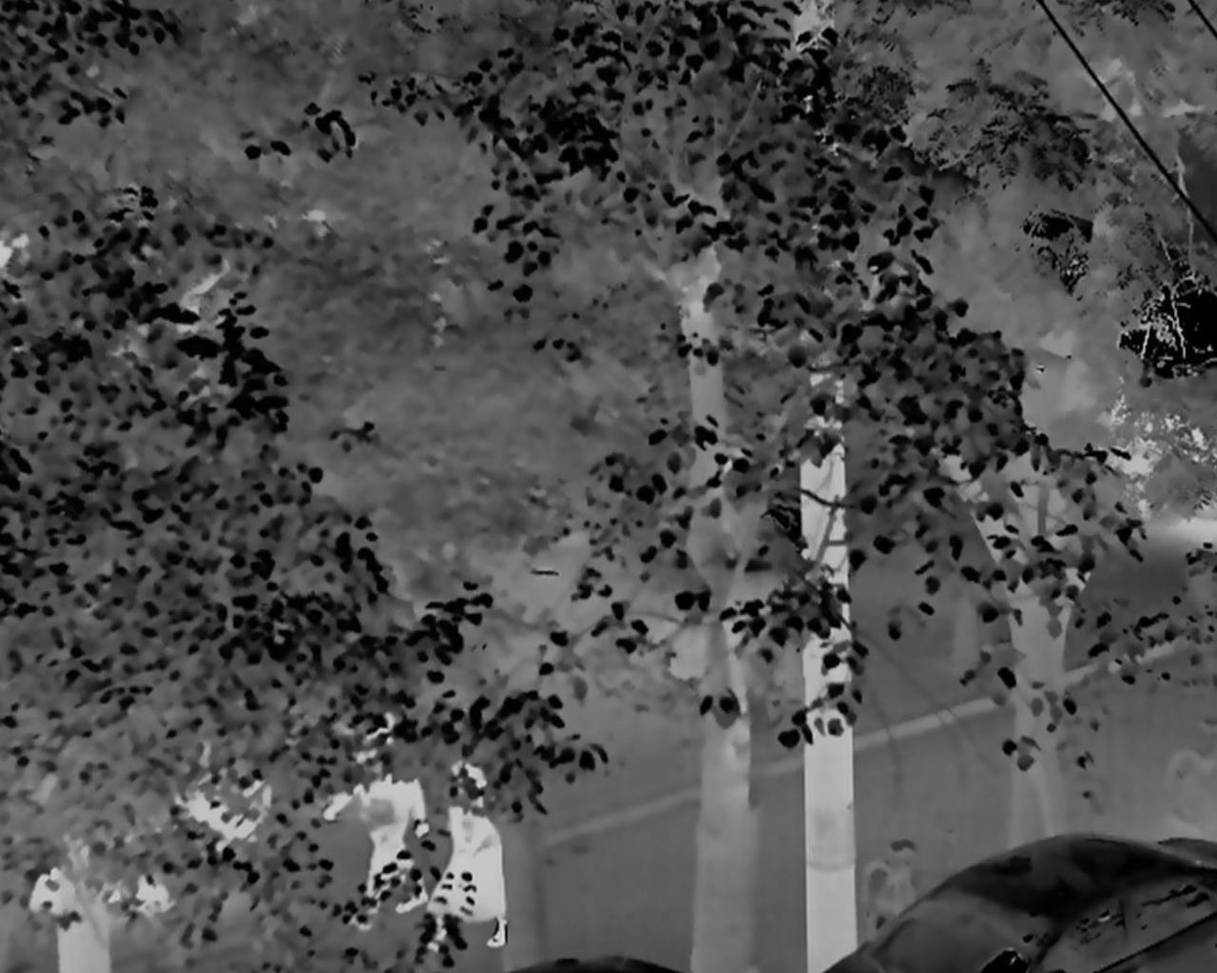person: (333, 707, 429, 923), (422, 757, 512, 951)
